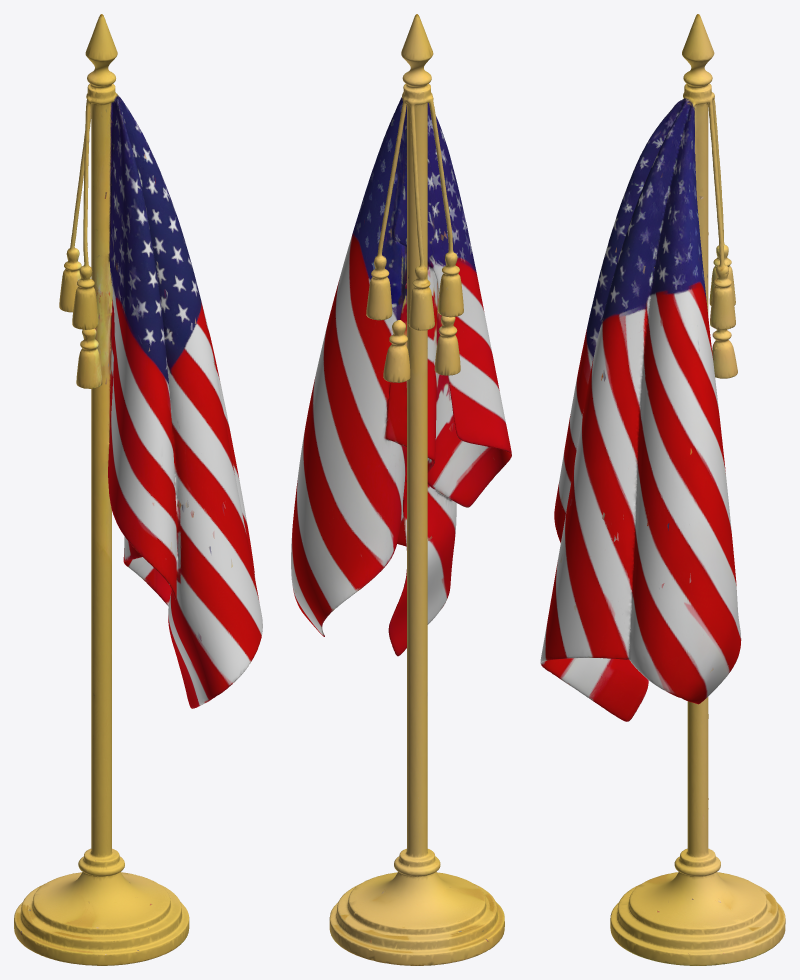
The model's file is Flag.glb.
The picture shows the model from 3 angles, left to right: view 1: azimuth 30°, elevation 25°; view 2: azimuth 150°, elevation 25°; view 3: azimuth 270°, elevation 25°; orthographic projection.
Bounding box in the file's own units: 0.4559 × 1.9 × 0.4607.
Materials: 1 (1 with a texture image).
